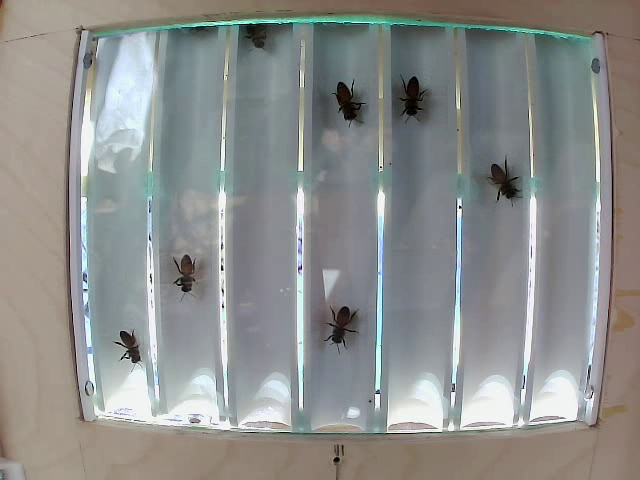bee: (167, 241, 211, 296), (322, 297, 367, 346), (396, 66, 434, 122), (327, 76, 362, 135), (483, 153, 524, 203), (114, 322, 149, 377)
